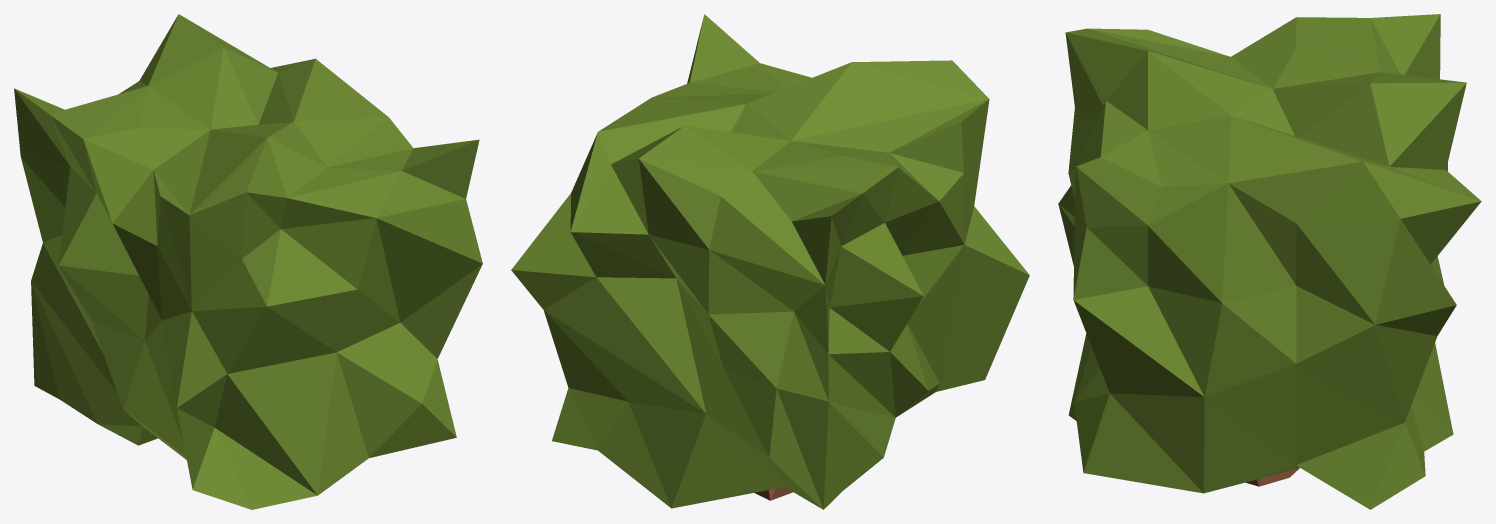
The model's file is Bush_7_autumn_mat.fbx.
3 renders of one model, left to right at view 1: azimuth 30°, elevation 25°; view 2: azimuth 150°, elevation 25°; view 3: azimuth 270°, elevation 25°, orthographic. The views are drawn at different scales.
Parts seen in each view (by area): view 1: Bush_7_autumn_mat; view 2: Bush_7_autumn_mat; view 3: Bush_7_autumn_mat.
Boxes of the visible parts, box(x1,y1,x2,y2) form: Bush_7_autumn_mat: box(14, 14, 482, 509); Bush_7_autumn_mat: box(511, 14, 1029, 509); Bush_7_autumn_mat: box(1058, 14, 1481, 509).
Bounding box in the file's own units: 47.57 × 52.13 × 49.43.
